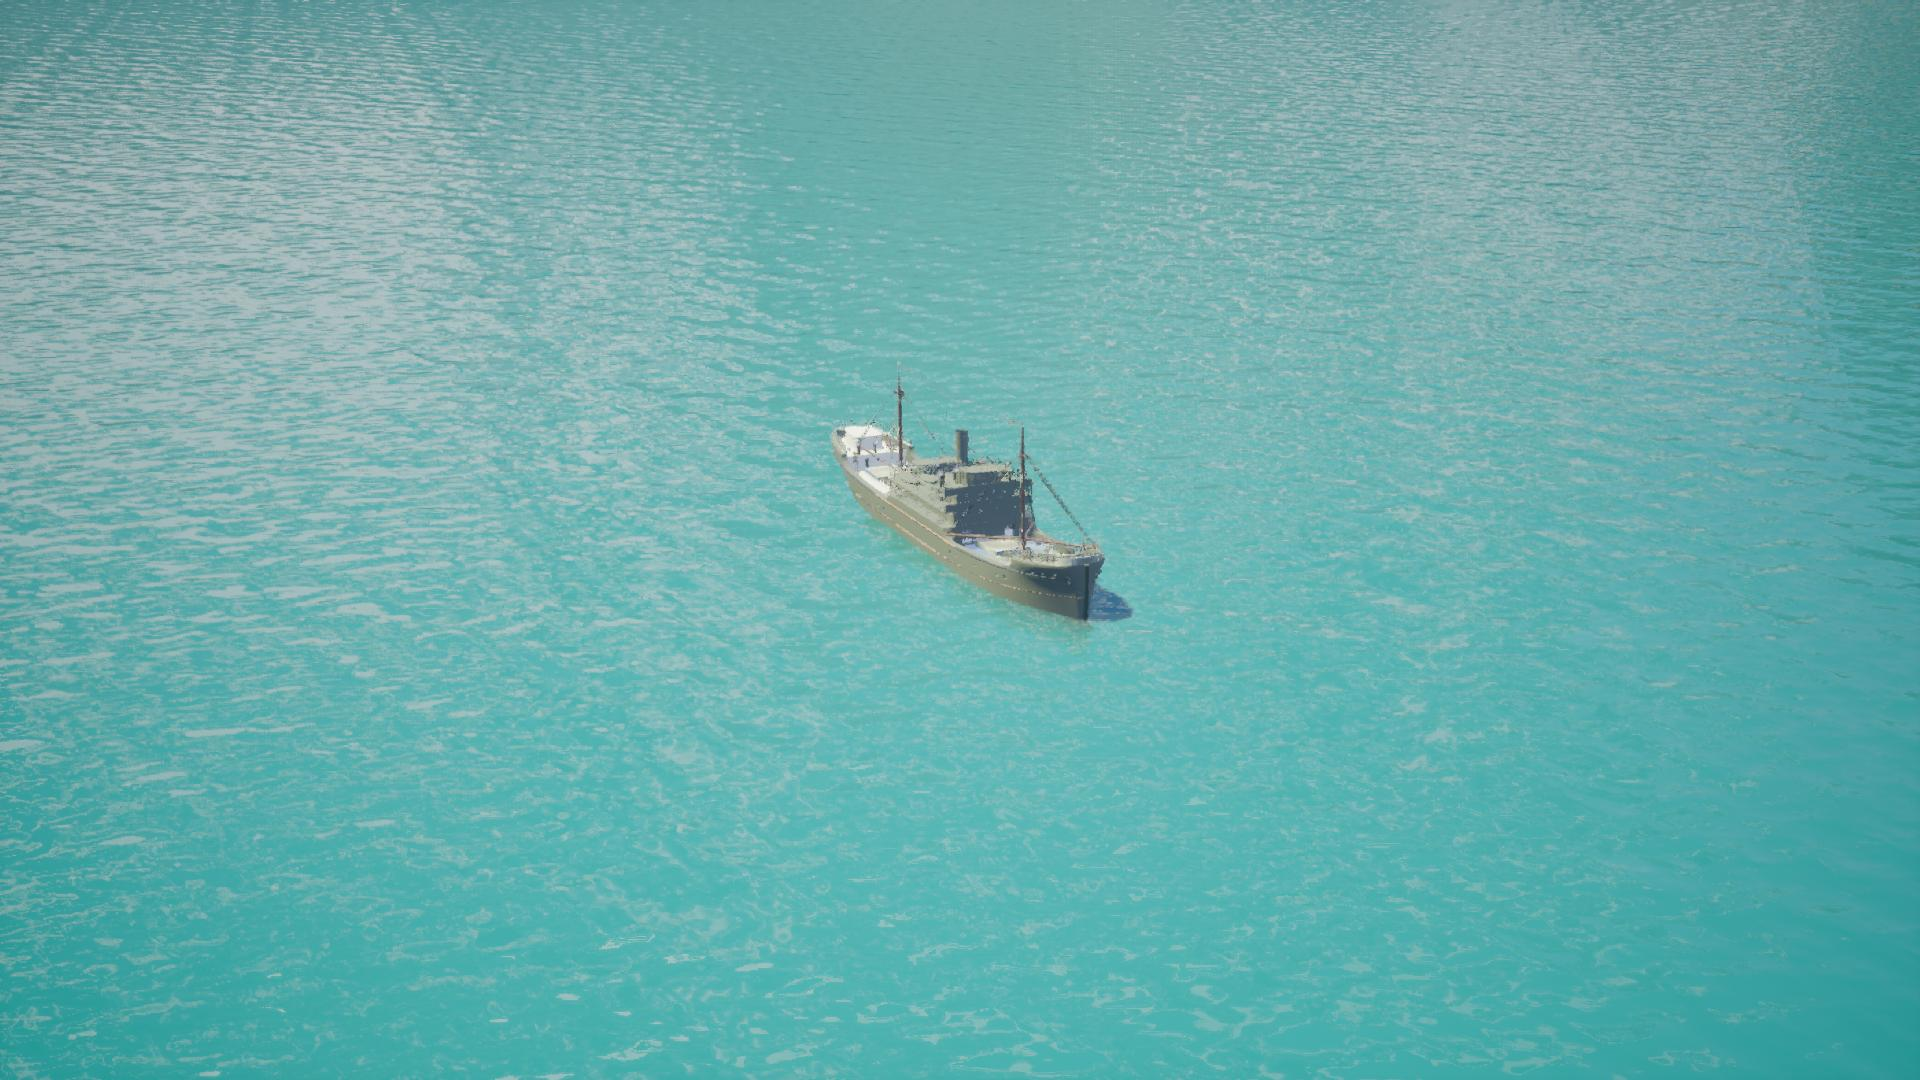Fishing Boat: (831, 423, 1112, 625)
